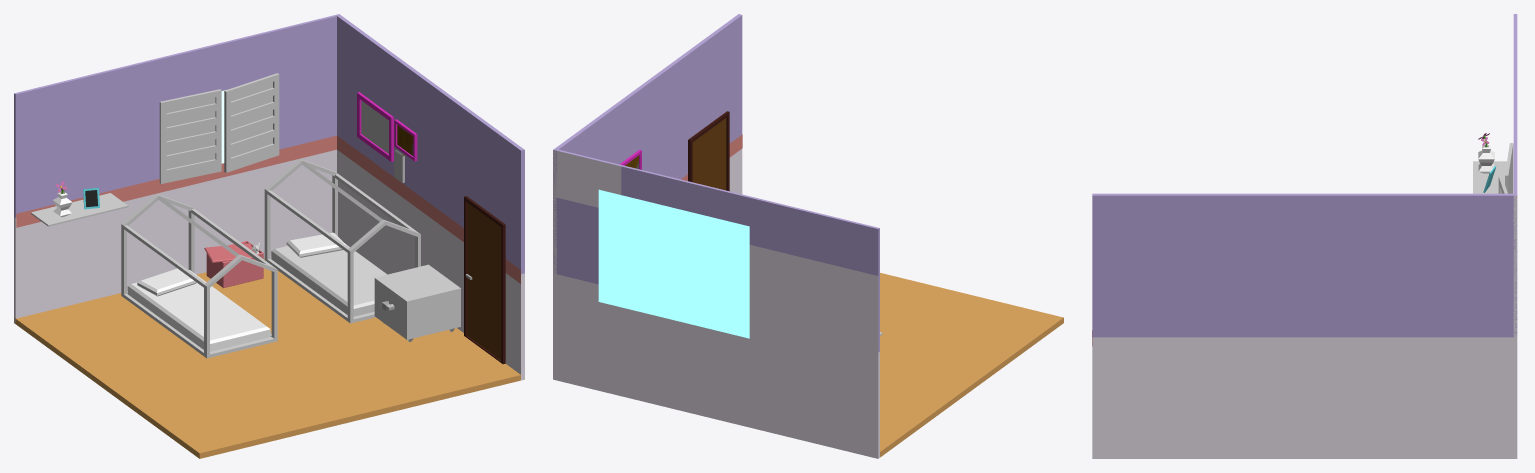
Rendered from twins-room.glb.
3 views of the same model, side by side, from view 1: azimuth 30°, elevation 25°; view 2: azimuth 150°, elevation 25°; view 3: azimuth 270°, elevation 25° (orthographic). The views are drawn at different scales.
Visible parts, largest first — view 1: Cube, Cube.040, Cube.041, Cube.009, Cube.006, Cube.007, Cube.002, Cube.008, Cube.001, Cube.014, Cube.003, Plane.001 (+9 smaller); view 2: Cube, Cube.040, Plane, Cube.041, Cube.009; view 3: Cube.041, Cube, Cube.021.
Part boxes in pixels (x1=…): Cube: x1=14, y1=14, x2=340, y2=323; Cube.040: x1=14, y1=258, x2=524, y2=458; Cube.041: x1=336, y1=14, x2=524, y2=380; Cube.009: x1=464, y1=196, x2=505, y2=364; Cube.006: x1=159, y1=89, x2=221, y2=183; Cube.007: x1=121, y1=193, x2=277, y2=358; Cube.002: x1=127, y1=270, x2=270, y2=351; Cube.008: x1=224, y1=73, x2=279, y2=172; Cube.001: x1=264, y1=158, x2=420, y2=323; Cube.014: x1=374, y1=264, x2=460, y2=339; Cube.003: x1=271, y1=244, x2=386, y2=316; Plane.001: x1=16, y1=135, x2=336, y2=227; Cube: x1=553, y1=148, x2=879, y2=458; Cube.040: x1=878, y1=273, x2=1063, y2=457; Plane: x1=598, y1=189, x2=749, y2=338; Cube.041: x1=553, y1=14, x2=742, y2=195; Cube.009: x1=688, y1=111, x2=729, y2=191; Cube.041: x1=1092, y1=193, x2=1517, y2=458; Cube: x1=1513, y1=14, x2=1517, y2=458; Cube.021: x1=1473, y1=161, x2=1506, y2=193.
Bounding box in the file's own units: 6.06 × 4.09 × 6.04.
Materials: 20 (1 with a texture image).
